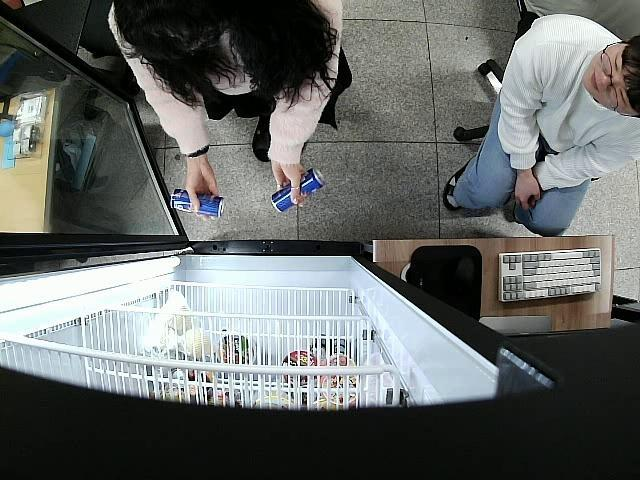16_hot6: (274, 169, 326, 212), (170, 188, 226, 220)
